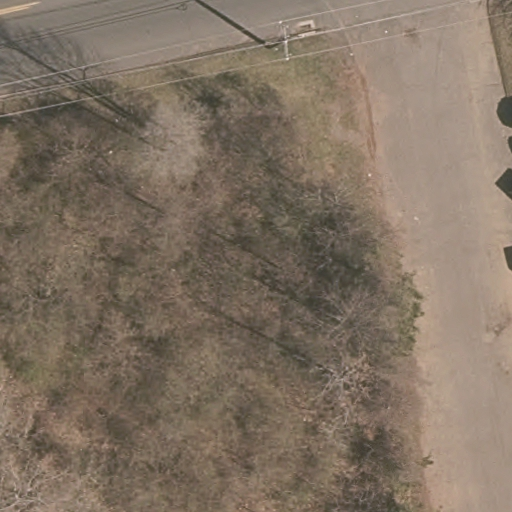DT: (261, 11, 308, 74)
